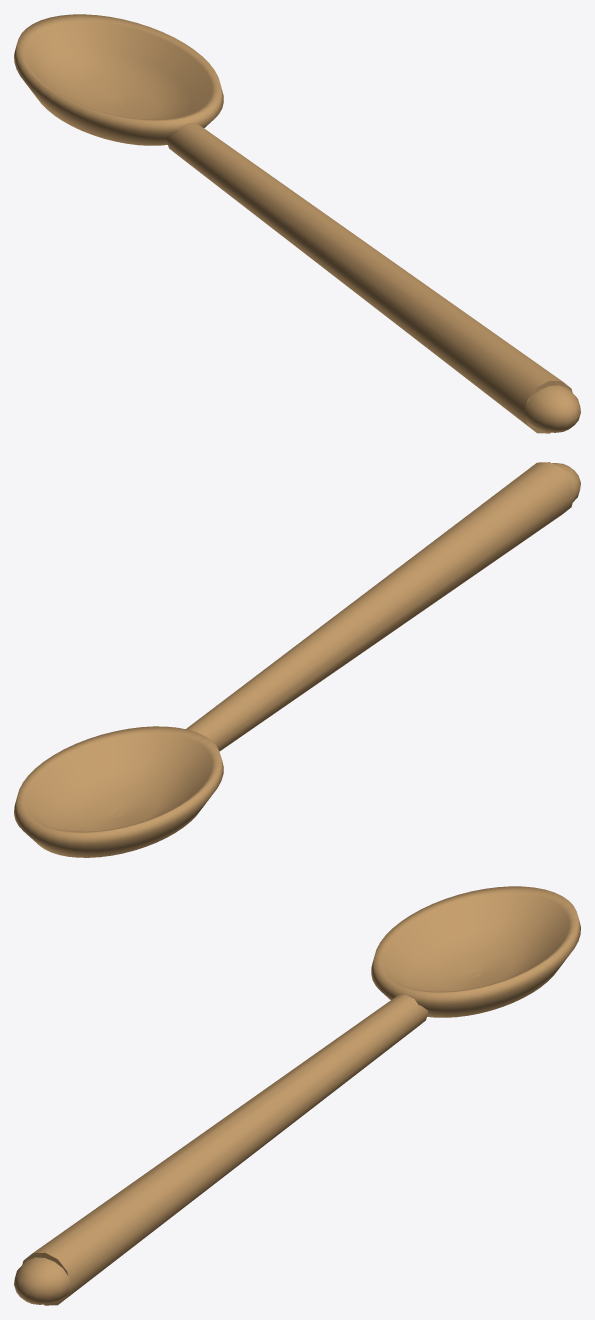
File: utensil_wooden_spoon.glb
3 views of the same model, one above another, from view 1: azimuth 30°, elevation 25°; view 2: azimuth 150°, elevation 25°; view 3: azimuth 330°, elevation 25° (orthographic).
Visible parts, largest first — view 1: Wooden spoon long tapered handle, Carved oval wooden spoon bowl, Spoon rounded handle end; view 2: Wooden spoon long tapered handle, Carved oval wooden spoon bowl; view 3: Wooden spoon long tapered handle, Carved oval wooden spoon bowl, Spoon rounded handle end.
Part boxes in pixels (x1=…): Wooden spoon long tapered handle: x1=166, y1=123, x2=572, y2=433; Carved oval wooden spoon bowl: x1=14, y1=14, x2=223, y2=145; Spoon rounded handle end: x1=524, y1=385, x2=580, y2=432; Wooden spoon long tapered handle: x1=186, y1=462, x2=574, y2=751; Carved oval wooden spoon bowl: x1=14, y1=726, x2=223, y2=857; Wooden spoon long tapered handle: x1=22, y1=995, x2=428, y2=1305; Carved oval wooden spoon bowl: x1=371, y1=886, x2=580, y2=1017; Spoon rounded handle end: x1=14, y1=1257, x2=70, y2=1304.
Size of the model in its own units: 0.0612 by 0.02 by 0.3566.
